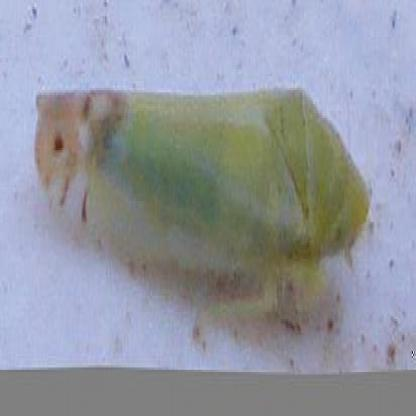green-leafhopper: (36, 84, 364, 292)
